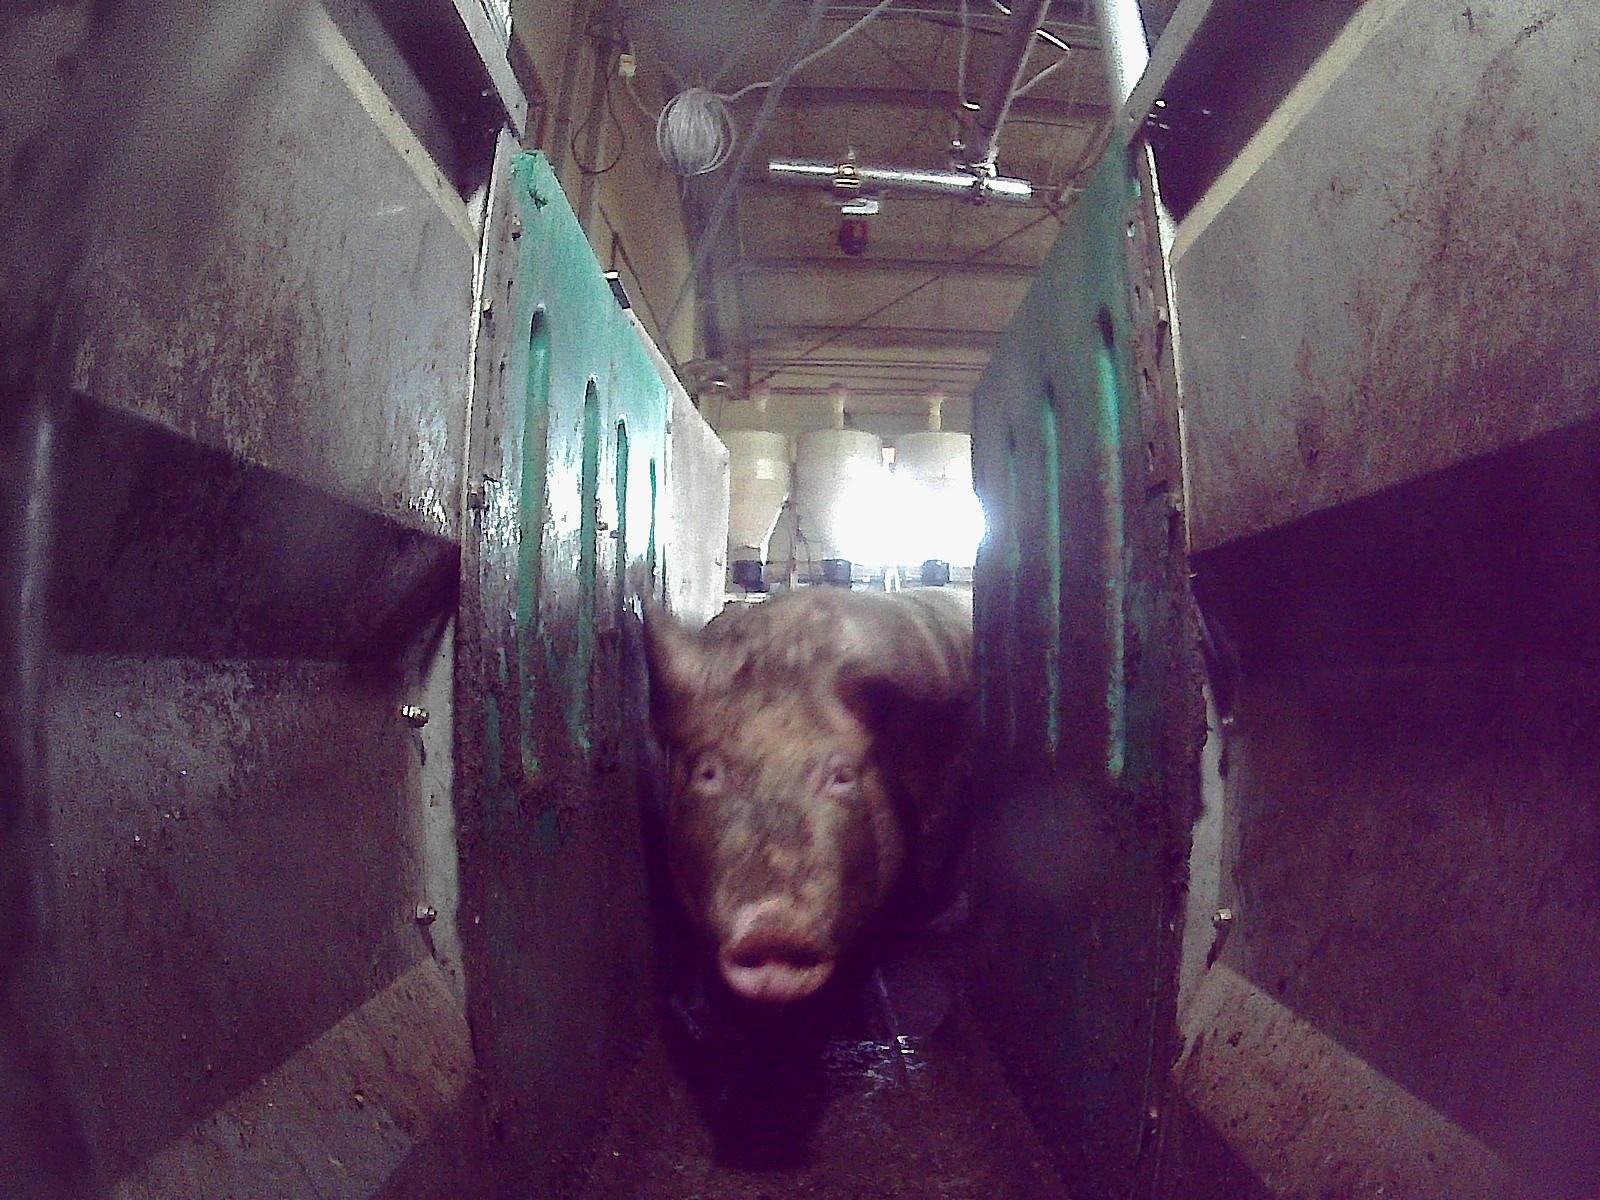Face: (654, 638, 907, 1002)
